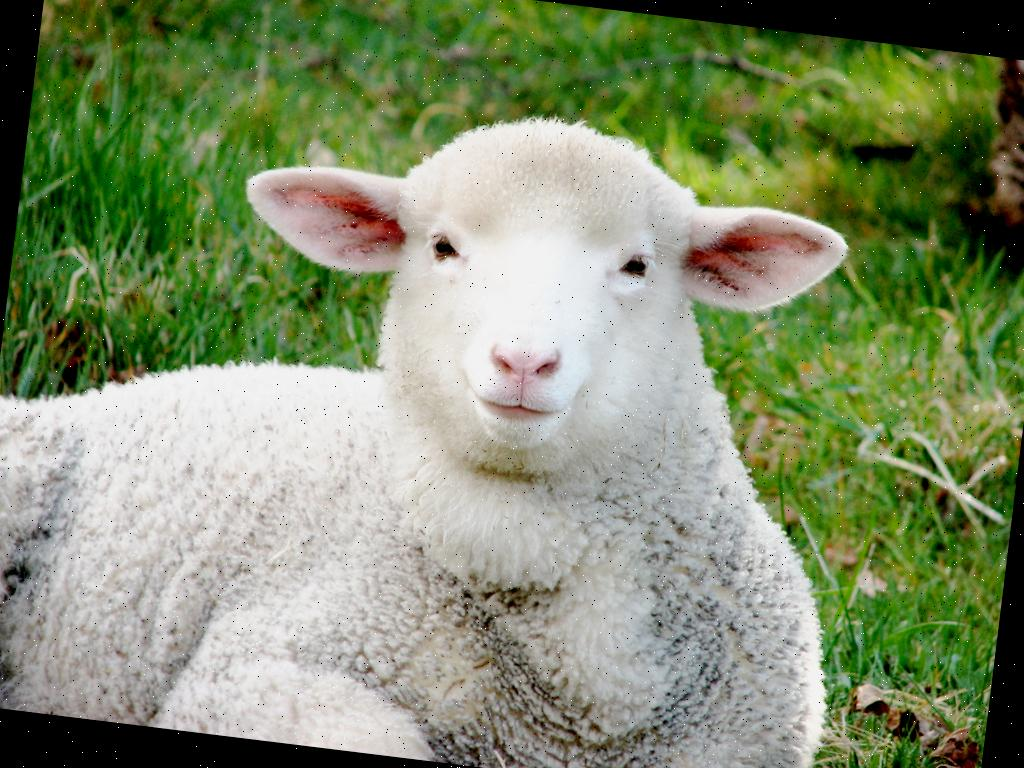Sheep: (0, 48, 893, 768)
